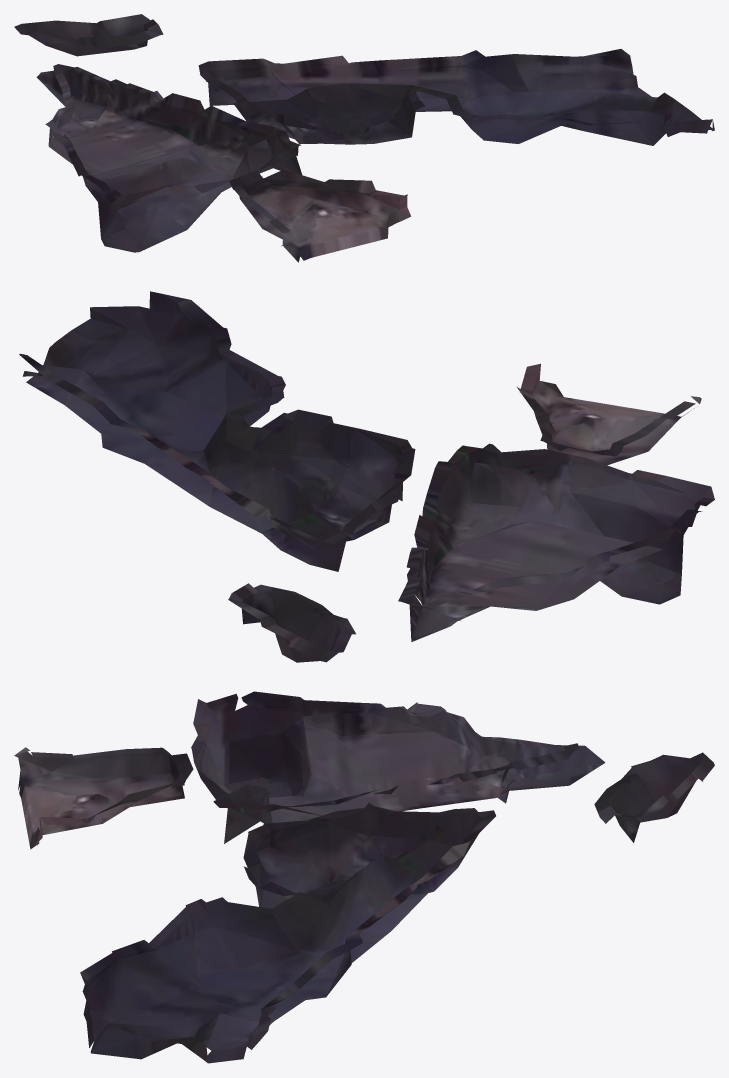
3 renders of one model, top to bottom at view 1: azimuth 30°, elevation 25°; view 2: azimuth 150°, elevation 25°; view 3: azimuth 270°, elevation 25°, orthographic. The views are drawn at different scales.
Visible parts, largest first — view 1: Mesh_0; view 2: Mesh_0; view 3: Mesh_0.
Boxes of the visible parts, <box> form: Mesh_0: <box>14,14,714,262</box>; Mesh_0: <box>19,291,714,662</box>; Mesh_0: <box>14,691,714,1063</box>.
Size of the model in its own units: 30.56 by 3.82 by 27.77.
Materials: 1 (1 with a texture image).
